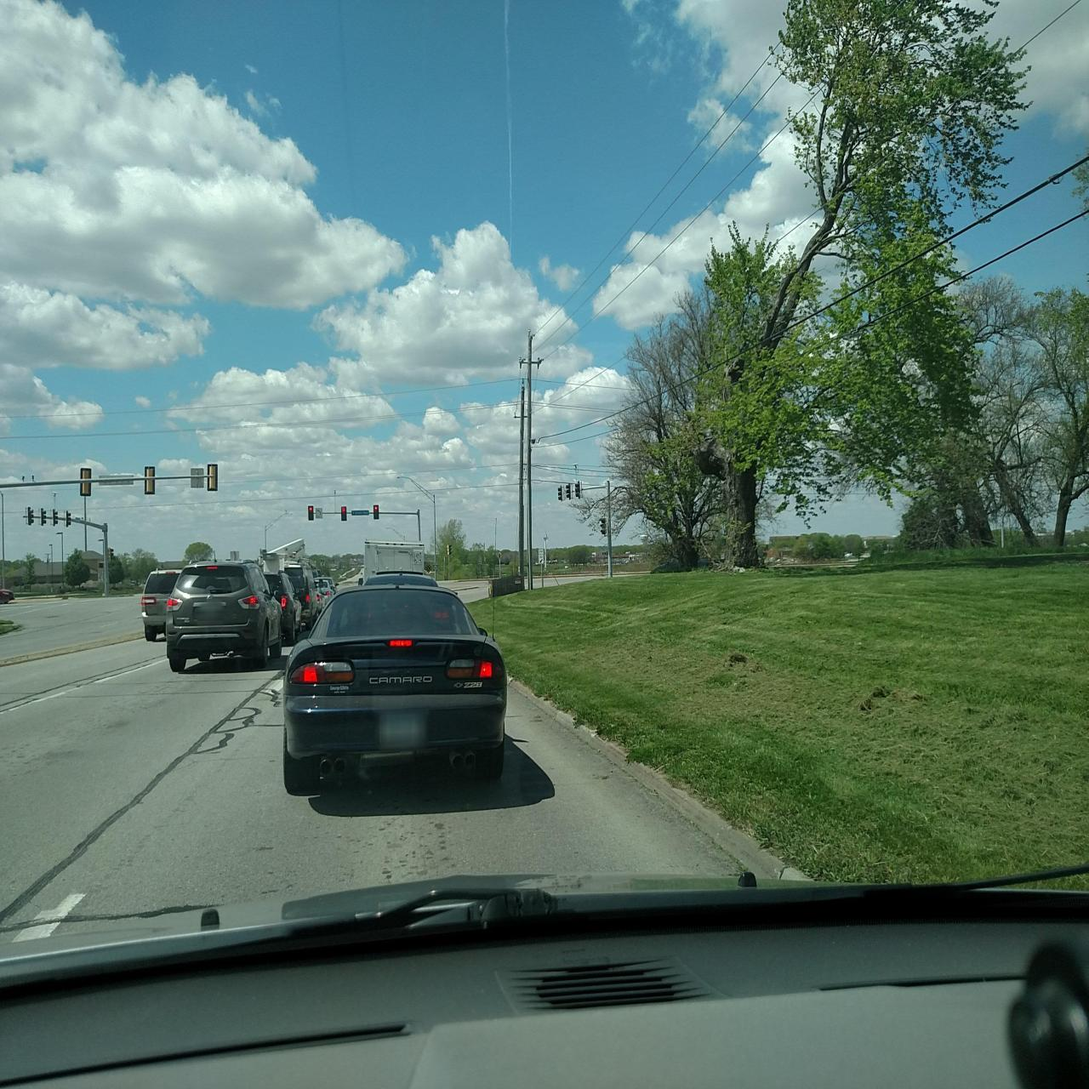car: (279, 569, 511, 798)
